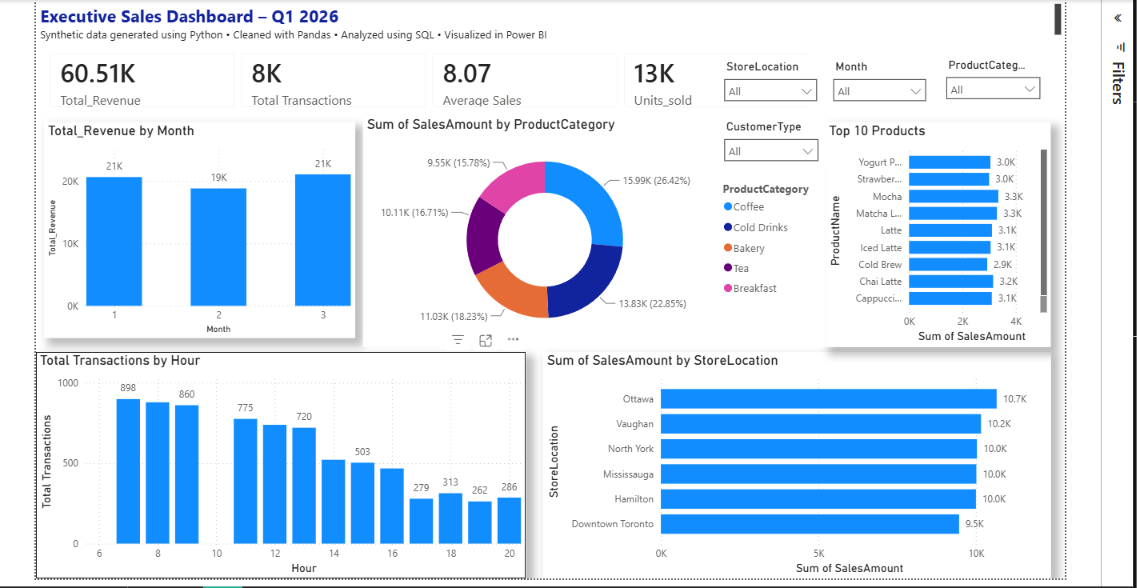

The page's visual inventory and layout, read from the dashboard file:
{"tool":"powerbi","page":{"name":"Page 1","canvas":[1280,720],"ordinal":0},"visuals":[{"type":"cardVisual","fields":{"Data":["cleaned_sales.Total_Revenue","cleaned_sales.Total Transations","cleaned_sales.Average Sales","cleaned_sales.Units_sold"]},"box":[0,49.4,981.1,101.5],"z":0},{"type":"clusteredBarChart","fields":{"Category":["cleaned_sales.StoreLocation"],"Y":["Sum(cleaned_sales.SalesAmount)"]},"box":[630.7,437.9,631.9,282.4],"z":1000},{"type":"clusteredColumnChart","fields":{"Y":["cleaned_sales.Total_Revenue"],"Category":["cleaned_sales.Month"]},"box":[10,151.8,386.9,268.7],"z":2000},{"type":"clusteredBarChart","title":"Top 10 Products","fields":{"Category":["cleaned_sales.ProductName"],"Y":["Sum(cleaned_sales.SalesAmount)"]},"box":[981.5,151.8,281.1,279.9],"z":3000},{"type":"donutChart","fields":{"Y":["Sum(cleaned_sales.SalesAmount)"],"Category":["cleaned_sales.ProductCategory"]},"box":[406.8,144.3,574.7,287.4],"z":4000},{"type":"clusteredColumnChart","fields":{"Y":["cleaned_sales.Total Transations"],"Category":["cleaned_sales.Hour"]},"box":[0,437.9,609.5,282.4],"z":5000},{"type":"slicer","fields":{"Values":["cleaned_sales.Month"]},"box":[981.5,69.7,135.6,72.1],"z":6000},{"type":"slicer","fields":{"Values":["cleaned_sales.StoreLocation"]},"box":[845.9,69.7,135.6,62.2],"z":7000},{"type":"slicer","fields":{"Values":["cleaned_sales.ProductCategory"]},"box":[1122.1,67.2,136.8,68.4],"z":8000},{"type":"textbox","box":[0,0,1280,59.7],"z":9000},{"type":"slicer","fields":{"Values":["cleaned_sales.CustomerType"]},"box":[845.9,144.3,136.8,61],"z":10000}]}

Visuals, with their boxes on the page's 1280x720 design canvas (x1, y1, x2, y2). These are canvas units, not pixel positions in the 1137x588 screenshot, which may show the page scaled, cropped or inside an application window:
cardVisual - cleaned_sales.Total_Revenue x cleaned_sales.Total Transations: crop(0, 49, 981, 151)
clusteredBarChart - cleaned_sales.StoreLocation x Sum(cleaned_sales.SalesAmount): crop(631, 438, 1263, 720)
clusteredColumnChart - cleaned_sales.Total_Revenue x cleaned_sales.Month: crop(10, 152, 397, 420)
"Top 10 Products" clusteredBarChart: crop(982, 152, 1263, 432)
donutChart - Sum(cleaned_sales.SalesAmount) x cleaned_sales.ProductCategory: crop(407, 144, 982, 432)
clusteredColumnChart - cleaned_sales.Total Transations x cleaned_sales.Hour: crop(0, 438, 610, 720)
slicer - cleaned_sales.Month: crop(982, 70, 1117, 142)
slicer - cleaned_sales.StoreLocation: crop(846, 70, 982, 132)
slicer - cleaned_sales.ProductCategory: crop(1122, 67, 1259, 136)
textbox: crop(0, 0, 1280, 60)
slicer - cleaned_sales.CustomerType: crop(846, 144, 983, 205)
